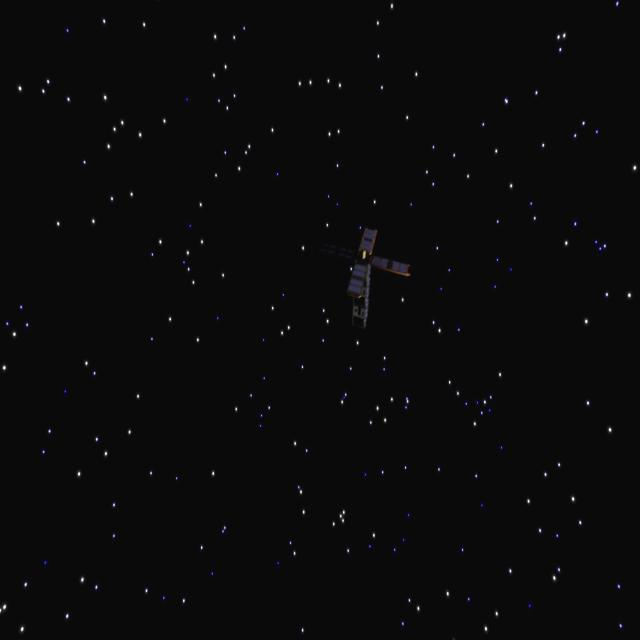medium_debris: (326, 233, 418, 324)
